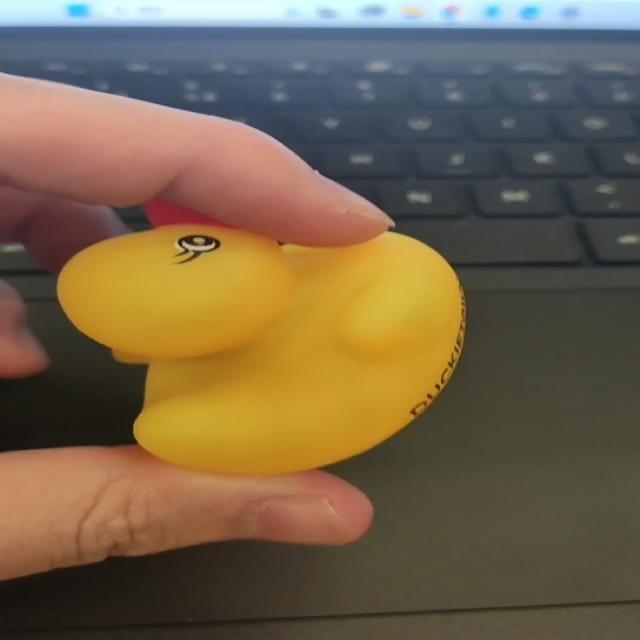rubber-duck: (57, 224, 463, 472)
